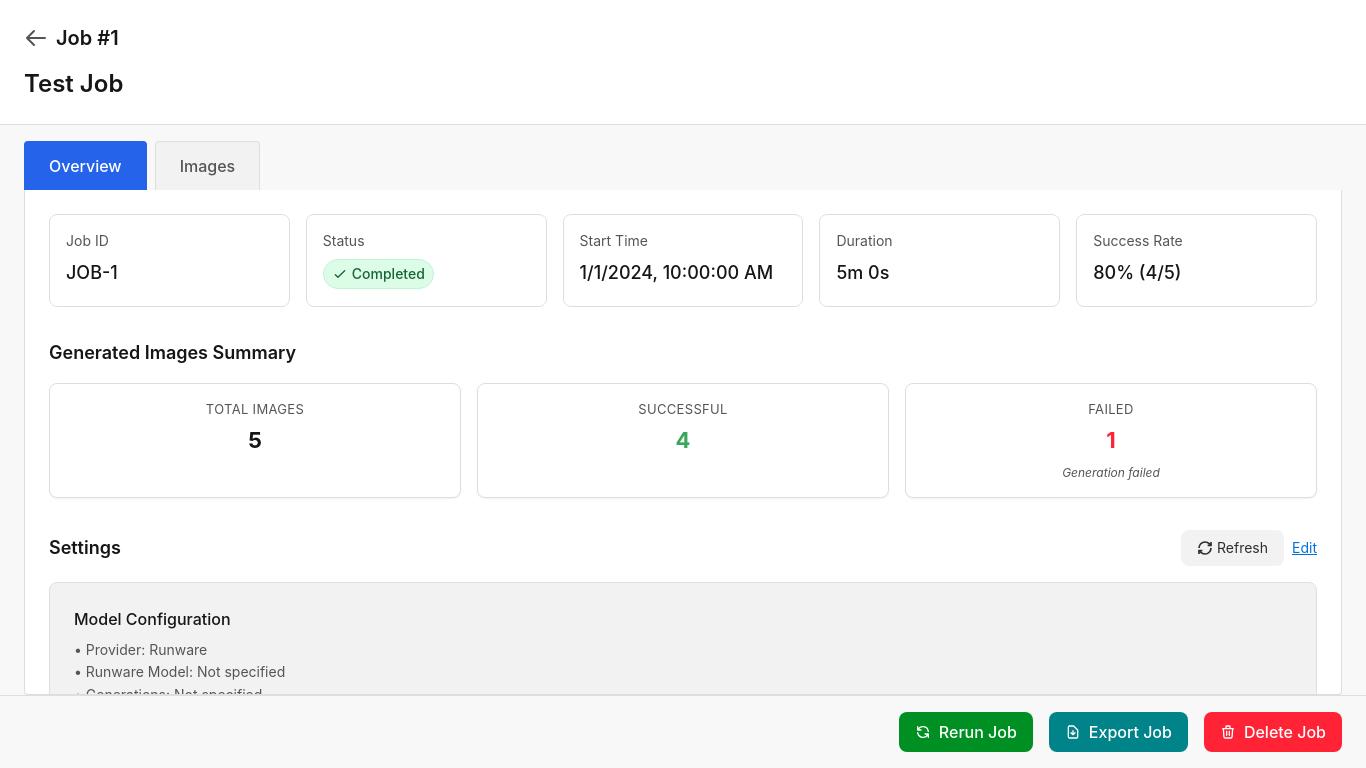
Test case: SingleJobView › Delete Confirmation › handles delete confirmation
Expected: the heading "Job #1" is shown, [56,24,119,52]
Click the button "Delete Job": [1273, 732] box [1204,712,1342,752]
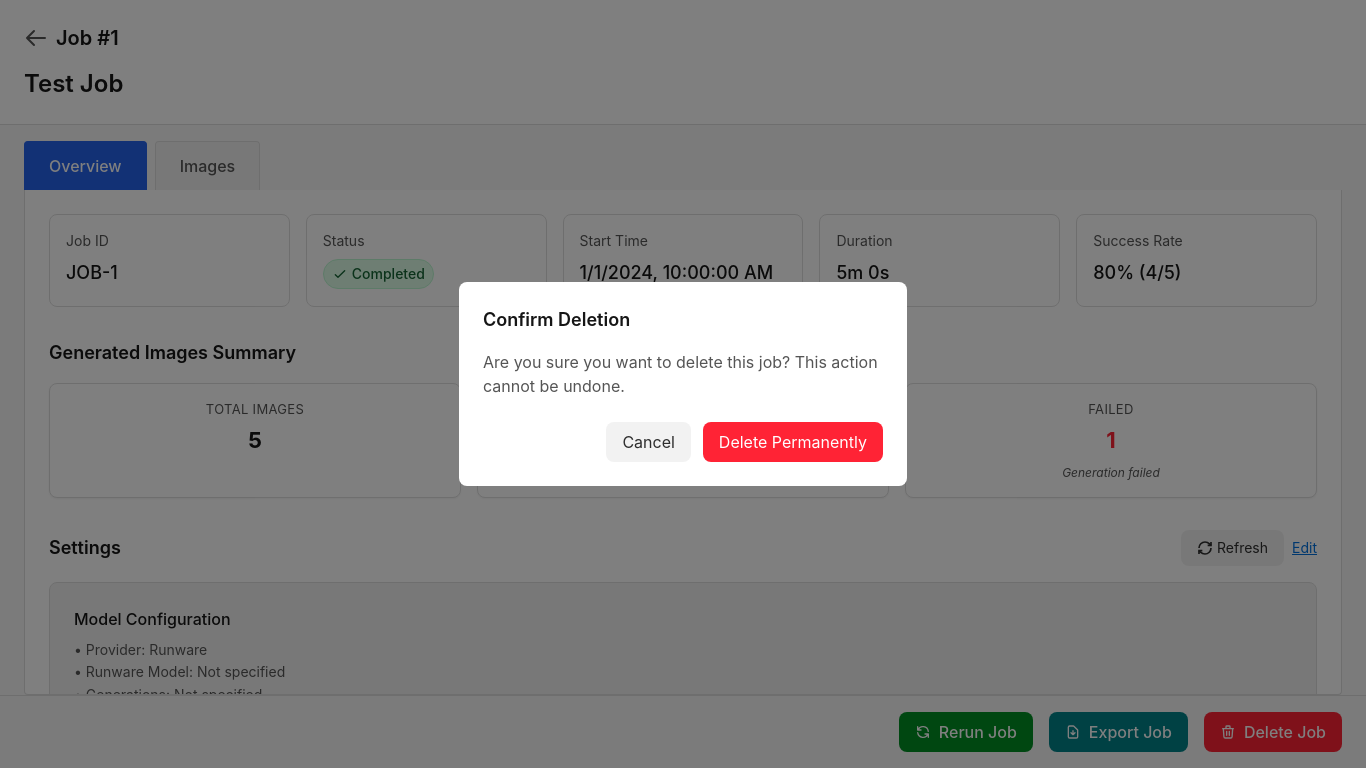
// Confirm deletion
Click the button "Delete Permanently": [793, 442] box [703,422,883,462]
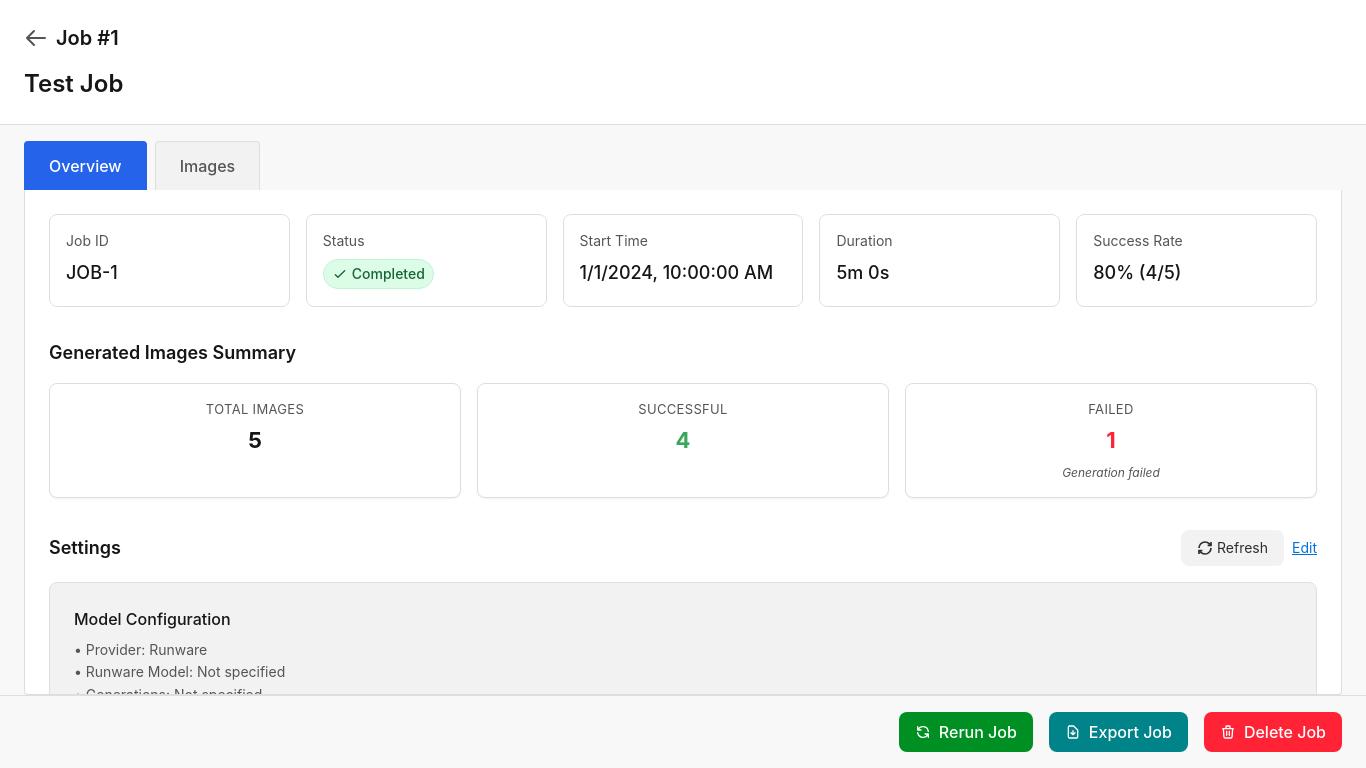
Result: the heading "Confirm Deletion" is gone
